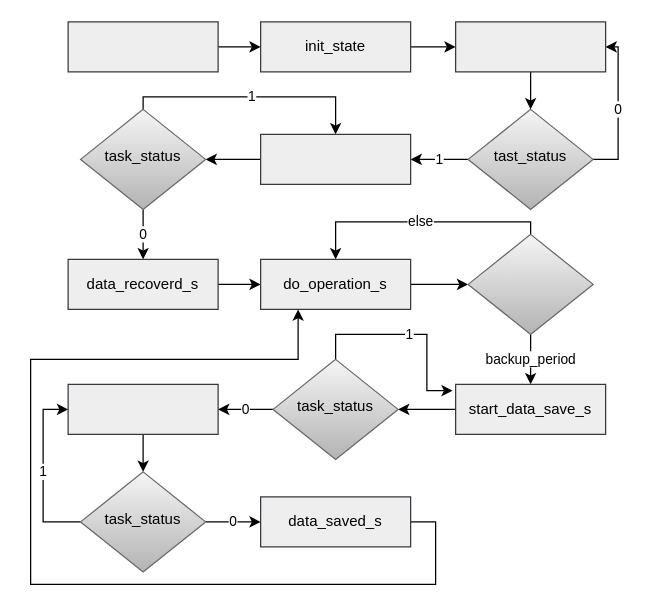
Image size: 650x616. Some labels were removed from this diagram. The shapes that lost their labels are listed below. From the top down, each one's centre as x and y in pixels, then its label:
pixel 142 46: shutdown_s
pixel 530 46: start_data_recovery_s
pixel 335 158: recovery_s
pixel 530 283: counter
pixel 142 408: data_save_s
